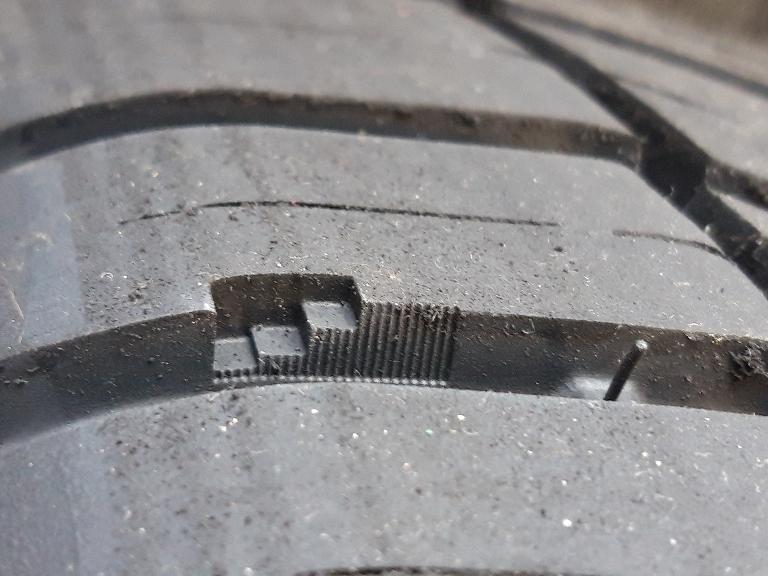temoin:75: (200, 266, 405, 395)
